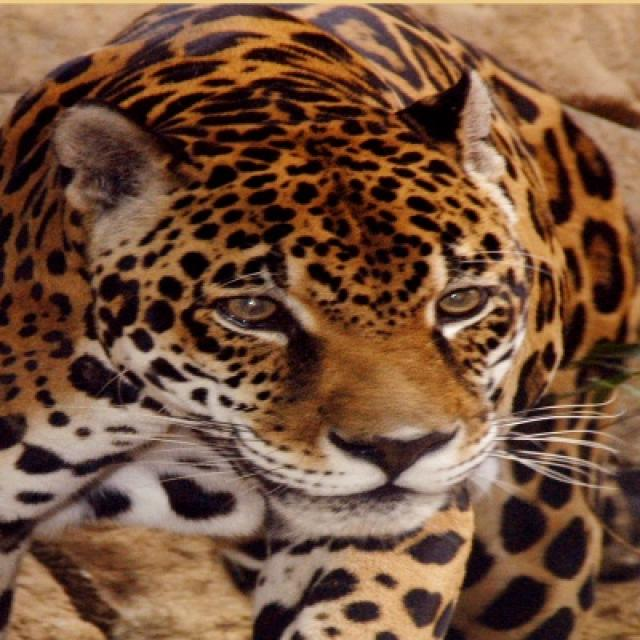Jaguar: (0, 4, 638, 638)
